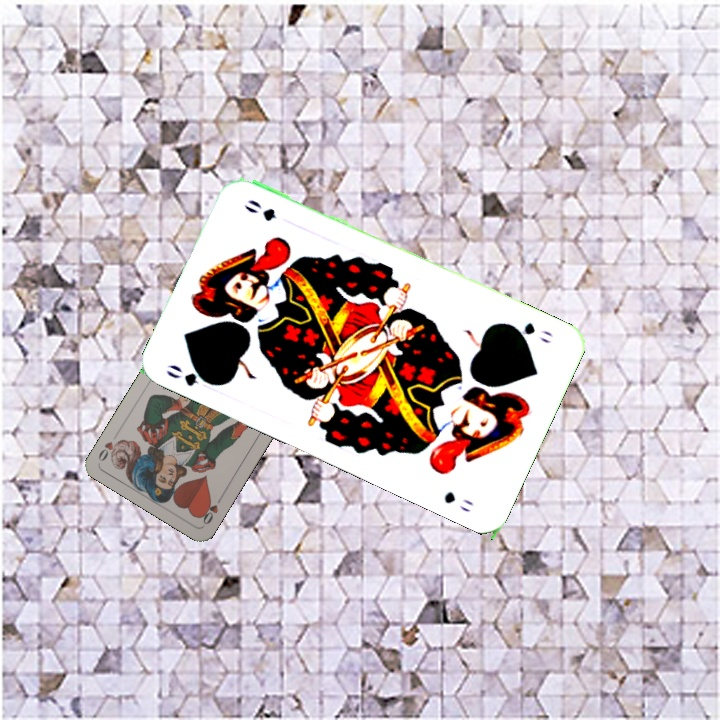GO: (162, 360, 220, 389), (503, 318, 555, 346)
HO: (196, 491, 226, 527)
